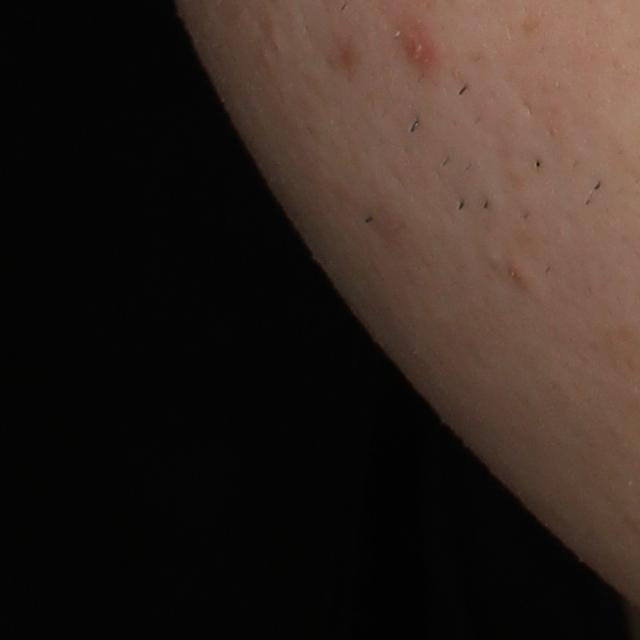papule: (502, 256, 535, 292)
